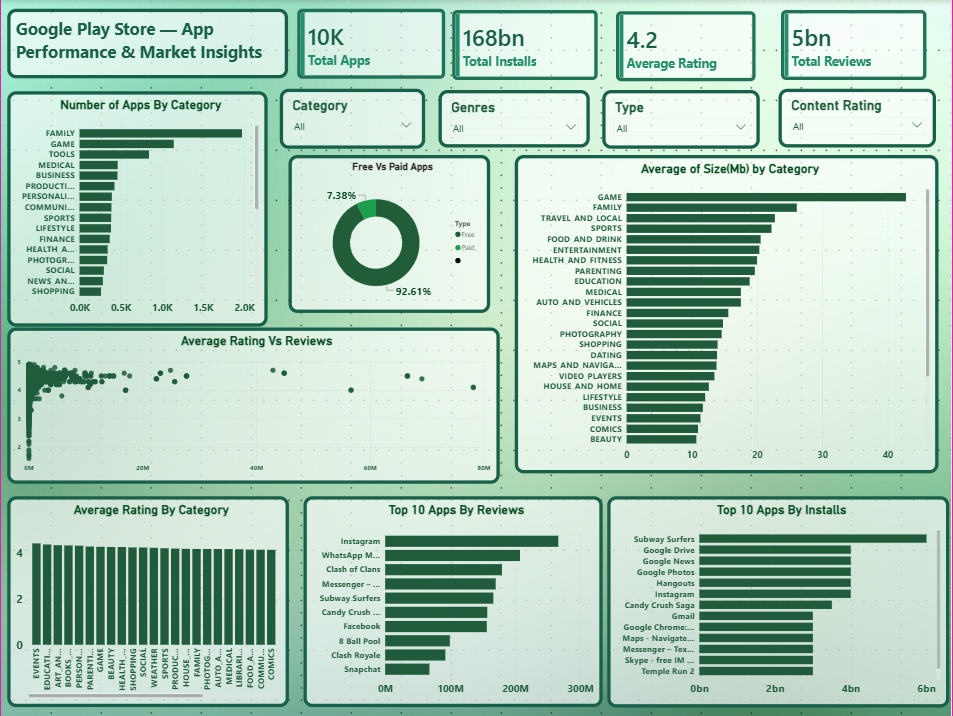

The dashboard page shown, as its layout file describes it:
{"tool":"powerbi","page":{"name":"Page 1","canvas":[1825,1376],"ordinal":0},"visuals":[{"type":"textbox","box":[11.5,16.1,539.5,133.7],"z":0},{"type":"cardVisual","fields":{"Data":["google_playstore_cleaned.Total Apps"]},"box":[551,0,318.2,168.3],"z":1000},{"type":"cardVisual","fields":{"Data":["google_playstore_cleaned.Total Installs"]},"box":[850.8,2.3,313.6,168.3],"z":2000},{"type":"cardVisual","fields":{"Data":["google_playstore_cleaned.Average Rating Display"]},"box":[1164.3,4.6,302,168.3],"z":3000},{"type":"cardVisual","fields":{"Data":["google_playstore_cleaned.Total Reviews"]},"box":[1480.2,2.3,313.6,168.3],"z":4000},{"type":"slicer","fields":{"Values":["google_playstore_cleaned.Category"]},"box":[534.9,170.6,279,115.3],"z":5000},{"type":"slicer","fields":{"Values":["google_playstore_cleaned.Genres"]},"box":[839.3,172.9,290.5,110.7],"z":6000},{"type":"slicer","fields":{"Values":["google_playstore_cleaned.Type"]},"box":[1155.1,172.9,302,113],"z":7000},{"type":"slicer","fields":{"Values":["google_playstore_cleaned.Content Rating"]},"box":[1491.8,170.6,302,113],"z":8000},{"type":"clusteredBarChart","title":"Number of Apps By Category","fields":{"Category":["google_playstore_cleaned.Category"],"Y":["CountNonNull(google_playstore_cleaned.App)"]},"box":[11.5,175.2,500.3,451.9],"z":9000},{"type":"clusteredBarChart","title":"Top 10 Apps By Installs","fields":{"Category":["google_playstore_cleaned.App"],"Y":["Sum(google_playstore_cleaned.Installs)"]},"box":[1164.3,952.2,657.1,405.8],"z":10000},{"type":"barChart","title":"Top 10 Apps By Reviews","fields":{"Category":["google_playstore_cleaned.App"],"Y":["Sum(google_playstore_cleaned.Reviews)"]},"box":[581,952.2,574.6,404.9],"z":11000},{"type":"columnChart","title":"Average Rating By Category","fields":{"Category":["google_playstore_cleaned.Category"],"Y":["Avg(google_playstore_cleaned.Rating)"]},"box":[11.5,952.2,540.6,404.9],"z":12000},{"type":"donutChart","title":"Free Vs Paid Apps","fields":{"Y":["CountNonNull(google_playstore_cleaned.App)"],"Category":["google_playstore_cleaned.Type"]},"box":[551,297.4,386.8,303.1],"z":13000},{"type":"clusteredBarChart","title":"Average of Size(Mb) by Category","fields":{"Category":["google_playstore_cleaned.Category"],"Y":["Avg(google_playstore_cleaned.Size_in_mb)"]},"box":[986.8,297.4,813.9,611],"z":14000},{"type":"scatterChart","title":"Average Rating Vs Reviews","fields":{"X":["google_playstore_cleaned.Reviews"],"Y":["Avg(google_playstore_cleaned.Rating)"]},"box":[11.5,629.4,945.3,299.7],"z":15000}]}

Visuals, with their boxes in screenshot pixels (x1, y1, x2, y2), scaled from the page's 1825x1376 canvas onto the 953x716 screenshot:
textbox: [6,8,288,78]
cardVisual - google_playstore_cleaned.Total Apps: [288,0,454,88]
cardVisual - google_playstore_cleaned.Total Installs: [444,1,608,89]
cardVisual - google_playstore_cleaned.Average Rating Display: [608,2,766,90]
cardVisual - google_playstore_cleaned.Total Reviews: [773,1,937,89]
slicer - google_playstore_cleaned.Category: [279,89,425,149]
slicer - google_playstore_cleaned.Genres: [438,90,590,148]
slicer - google_playstore_cleaned.Type: [603,90,761,149]
slicer - google_playstore_cleaned.Content Rating: [779,89,937,148]
"Number of Apps By Category" clusteredBarChart: [6,91,267,326]
"Top 10 Apps By Installs" clusteredBarChart: [608,495,951,707]
"Top 10 Apps By Reviews" barChart: [303,495,603,706]
"Average Rating By Category" columnChart: [6,495,288,706]
"Free Vs Paid Apps" donutChart: [288,155,490,312]
"Average of Size(Mb) by Category" clusteredBarChart: [515,155,940,473]
"Average Rating Vs Reviews" scatterChart: [6,328,500,483]
